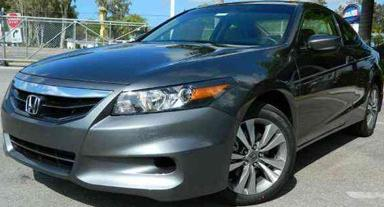front_view: (9, 73, 238, 193)
headlight: (109, 74, 247, 115)
side_glass: (298, 8, 363, 48)
